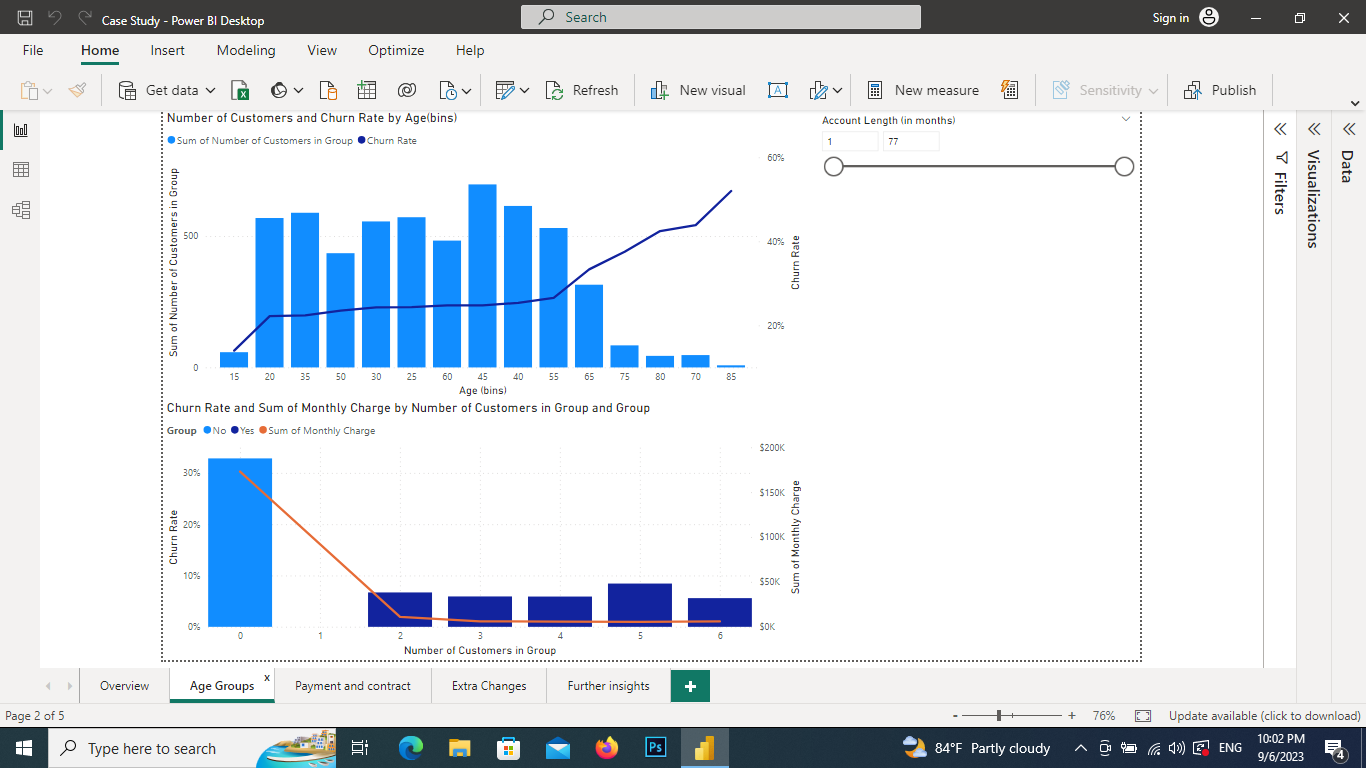

This screenshot's page, from the dashboard's own definition file:
{"tool":"powerbi","page":{"name":"Age Groups","canvas":[1280,720],"ordinal":1},"visuals":[{"type":"lineStackedColumnComboChart","title":"Number of Customers and Churn Rate by Age(bins)","fields":{"Y":["Sum(Databel - Data.Number of Customers in Group)"],"Category":["Databel - Data.Age (bins)"],"Y2":["Databel - Data.Churn Rate"]},"box":[0,0,839.5,380.2],"z":0},{"type":"lineStackedColumnComboChart","fields":{"Category":["Databel - Data.Number of Customers in Group"],"Series":["Databel - Data.Group"],"Y":["Databel - Data.Churn Rate"],"Y2":["Sum(Databel - Data.Monthly Charge)"]},"box":[0,380.2,839.5,339.8],"z":1},{"type":"slicer","fields":{"Values":["Databel - Data.Account Length (in months)"]},"box":[850,0,430,380],"z":2}]}

Visuals, with their boxes on the page's 1280x720 design canvas (x1, y1, x2, y2). These are canvas units, not pixel positions in the 1366x768 screenshot, which may show the page scaled, cropped or inside an application window:
"Number of Customers and Churn Rate by Age(bins)" lineStackedColumnComboChart: bbox(0, 0, 840, 380)
lineStackedColumnComboChart - Databel - Data.Number of Customers in Group x Databel - Data.Group: bbox(0, 380, 840, 720)
slicer - Databel - Data.Account Length (in months): bbox(850, 0, 1280, 380)
